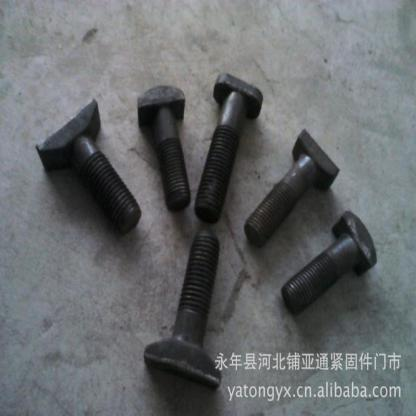FOD: (35, 98, 142, 234), (146, 226, 226, 392), (192, 69, 266, 226), (244, 127, 340, 248), (279, 207, 379, 318), (136, 84, 192, 214)
